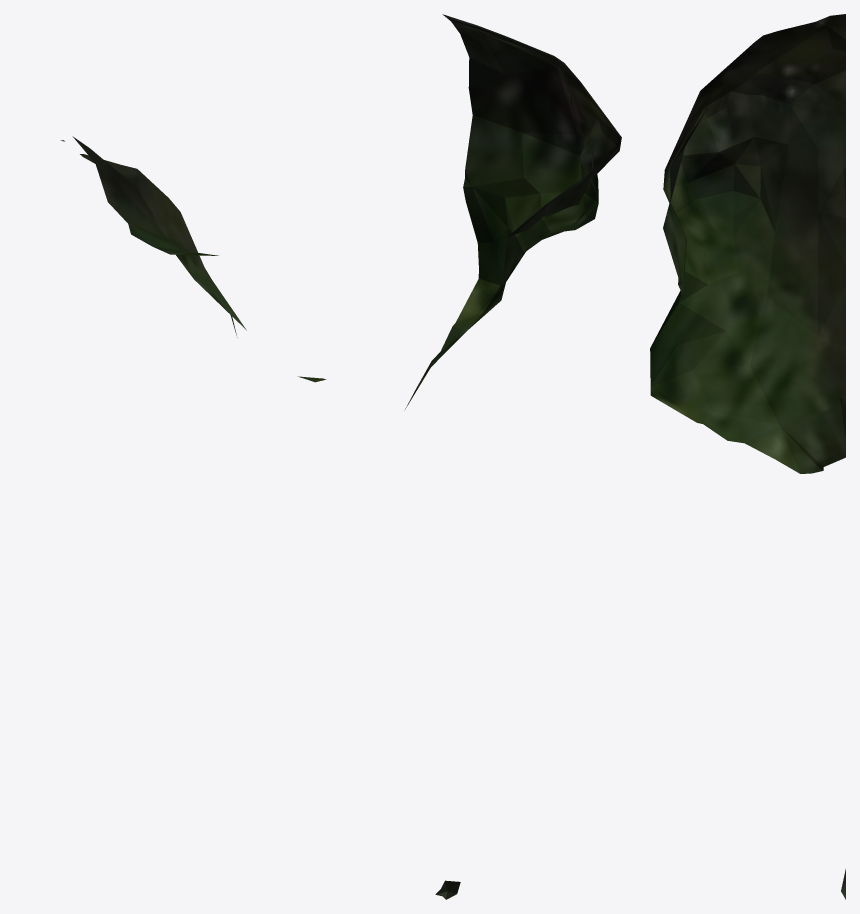
3 renders of one model, left to right at view 1: azimuth 30°, elevation 25°; view 2: azimuth 150°, elevation 25°; view 3: azimuth 270°, elevation 25°, orthographic. The views are drawn at different scales.
Size of the model in its own units: 0.3747 by 1.43 by 0.3083.
1 material, 1 textured.
